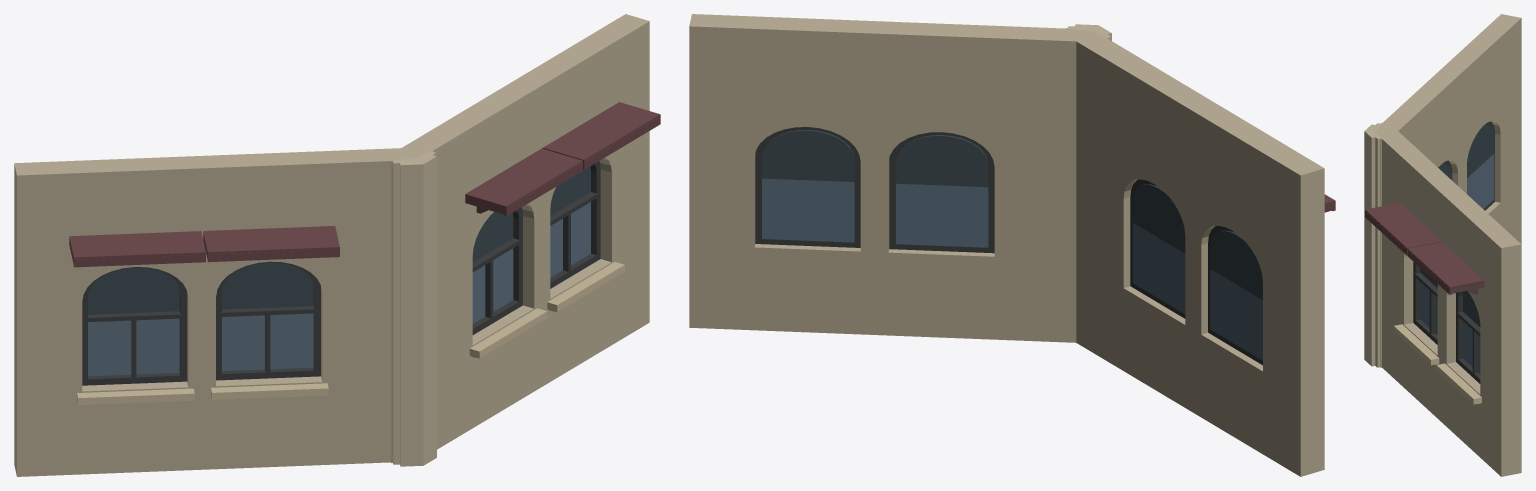
Rendered from hongkou-kakuta-apartments-corner-arched-windows-lod.glb.
3 views of the same model, side by side, from view 1: azimuth 30°, elevation 25°; view 2: azimuth 150°, elevation 25°; view 3: azimuth 270°, elevation 25° (orthographic). The views are drawn at different scales.
Visible parts, largest first — view 1: 角田公寓转角两组双联拱窗; view 2: 角田公寓转角两组双联拱窗; view 3: 角田公寓转角两组双联拱窗.
Part boxes in pixels (<box>): 角田公寓转角两组双联拱窗: <box>14,14,660,476</box>; 角田公寓转角两组双联拱窗: <box>689,14,1335,476</box>; 角田公寓转角两组双联拱窗: <box>1364,14,1521,476</box>.
Size of the model in its own units: 6.09 by 2.77 by 1.72.
